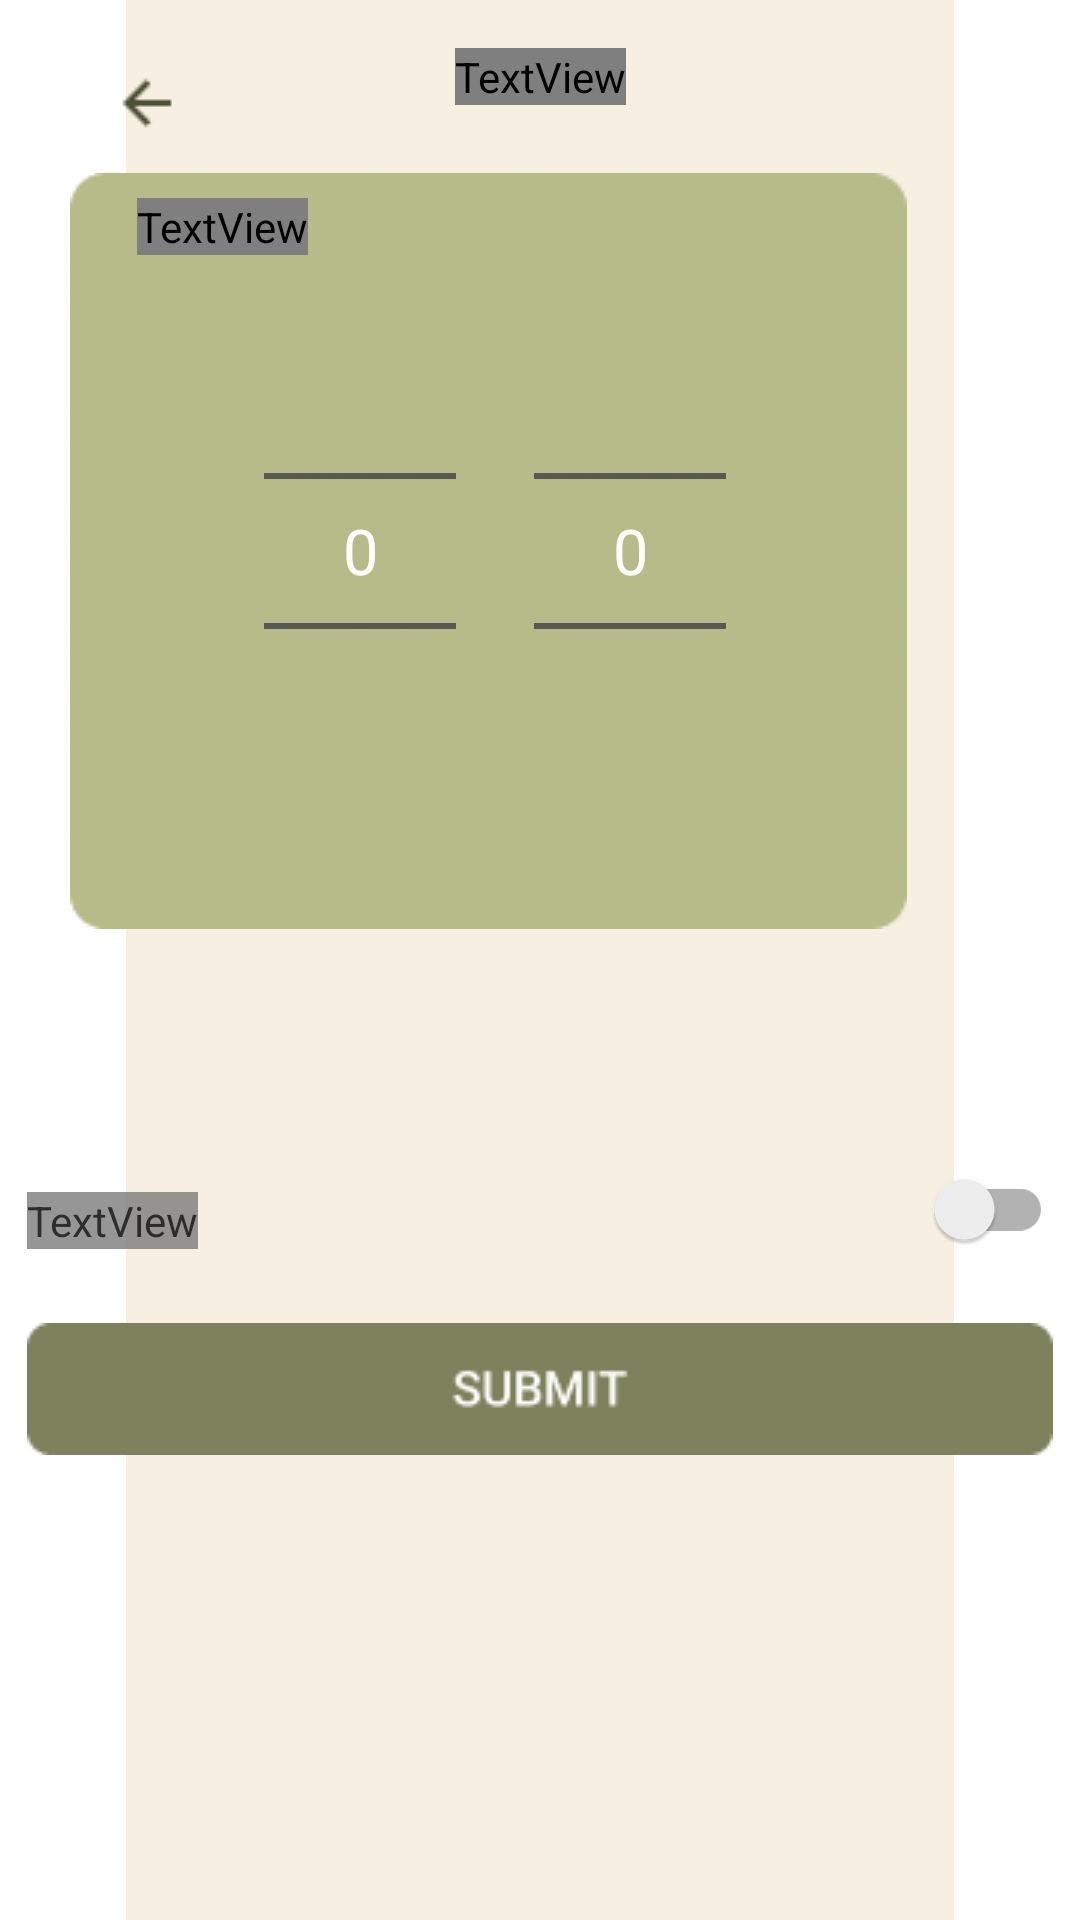

Icon click points for this 1080 × 1920 phone screenshot, format [x,y]:
back reminder: [141,103]
